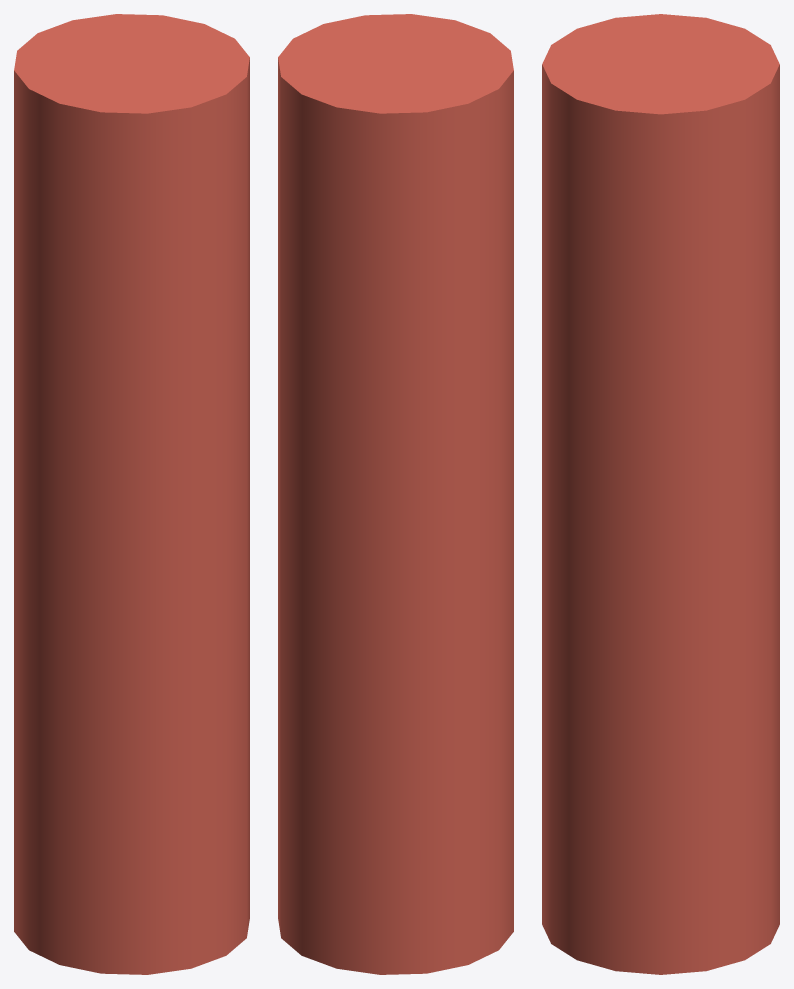
The model's file is TableLeg3.fbx.
The picture shows the model from 3 angles, left to right: view 1: azimuth 30°, elevation 25°; view 2: azimuth 150°, elevation 25°; view 3: azimuth 270°, elevation 25°; orthographic projection.
Visible parts, largest first — view 1: TableLeg3; view 2: TableLeg3; view 3: TableLeg3.
Boxes of the visible parts, box(x1,y1,x2,y2) form: TableLeg3: box(14, 14, 249, 974); TableLeg3: box(278, 14, 513, 974); TableLeg3: box(542, 14, 779, 974).
Size of the model in its own units: 0.1985 by 0.7932 by 0.1985.
